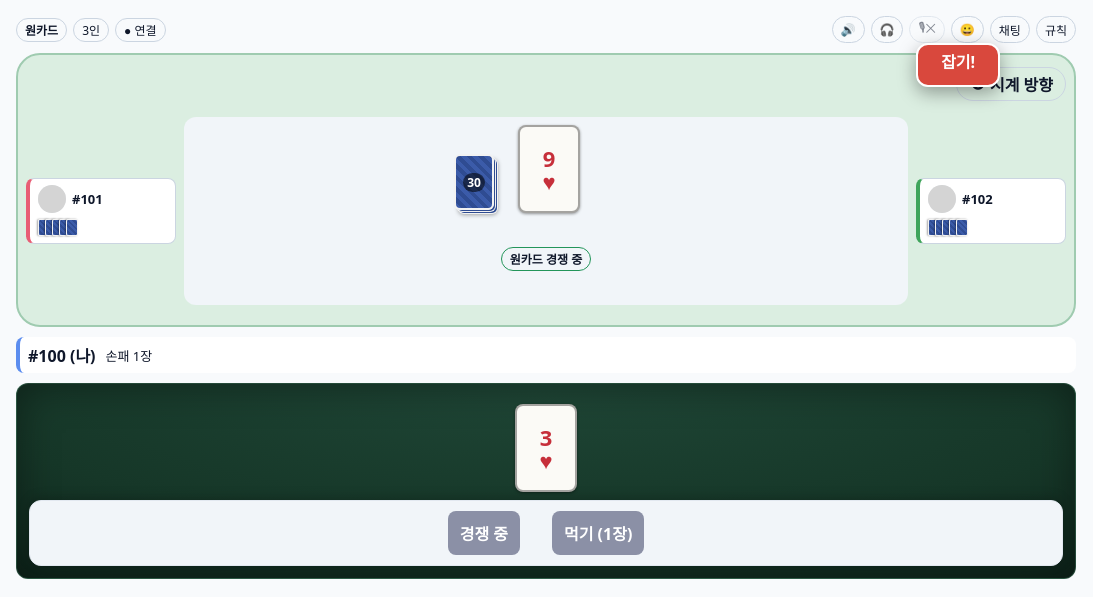
Test: OneCardTable — 원카드 경쟁 › 창이 열린 동안 BUSY 가 계속되면 두 번 다시 보내고, 그래도 안 되면 "늦었어요"로 끝낸다
Click the button "잡기!" at [958, 65], box [916,43,1000,87]
Wait 360 ms
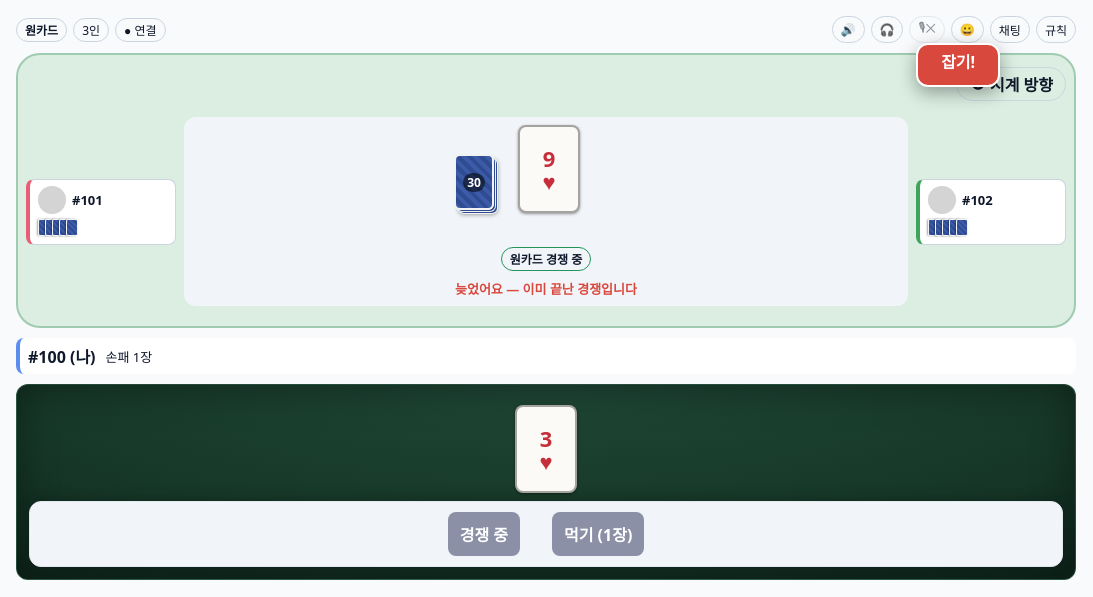
Expected: the text "늦었어요 — 이미 끝난 경쟁입니다" is shown 2 times
